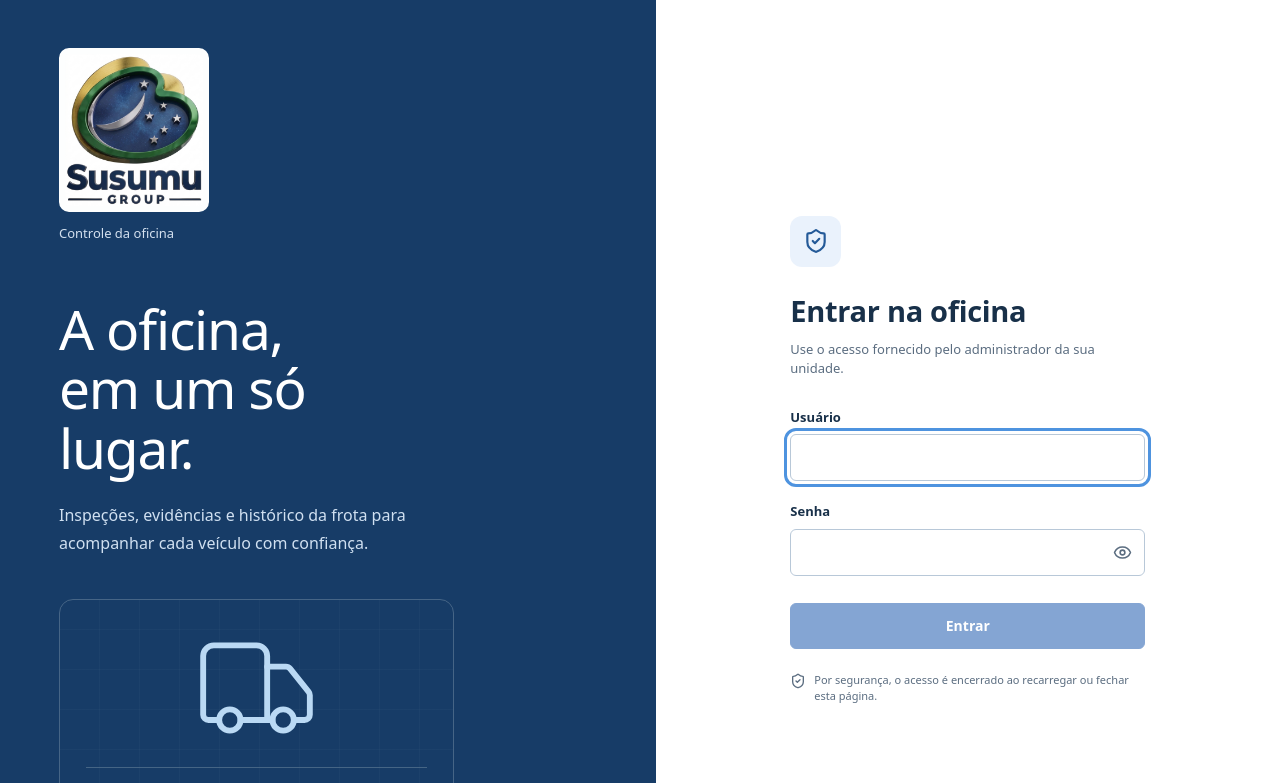
Test: vehicle type administration and assignments › blocks catalog maintenance for Supervisor without issuing its query
Type "test" into the field labelled "Usuário". click: (968, 458)
box: [790,434,1145,481]
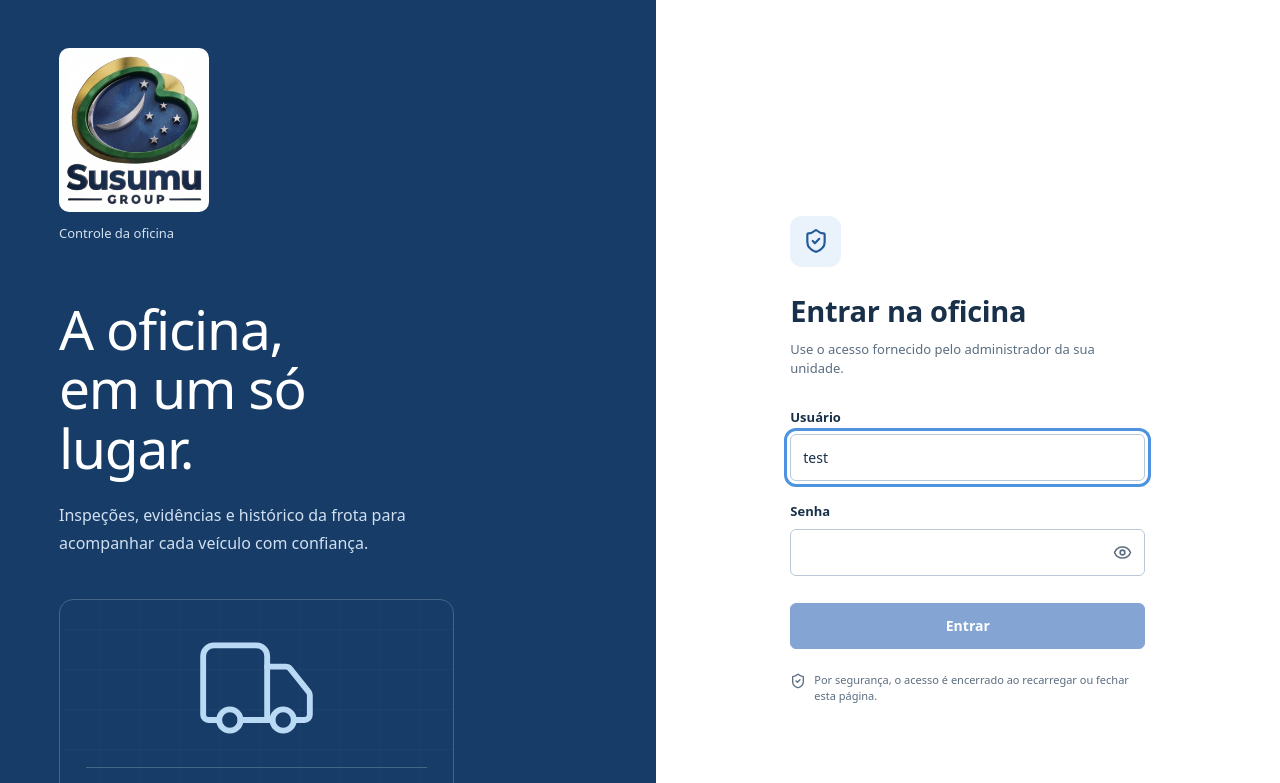
Type "test-password" into the password field labelled "Senha". click: (968, 552)
box: [790,529,1145,576]
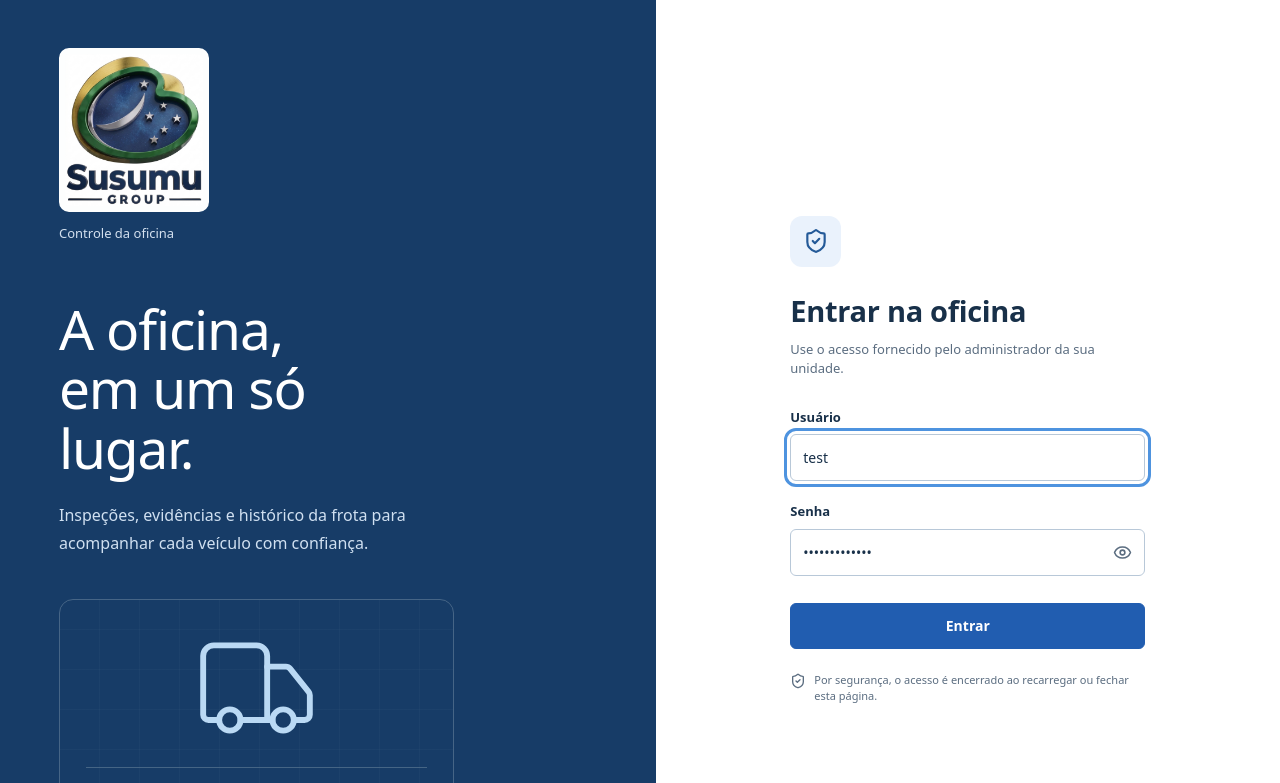
Click the button "Entrar". click: (968, 626)
box: [790,603,1145,649]
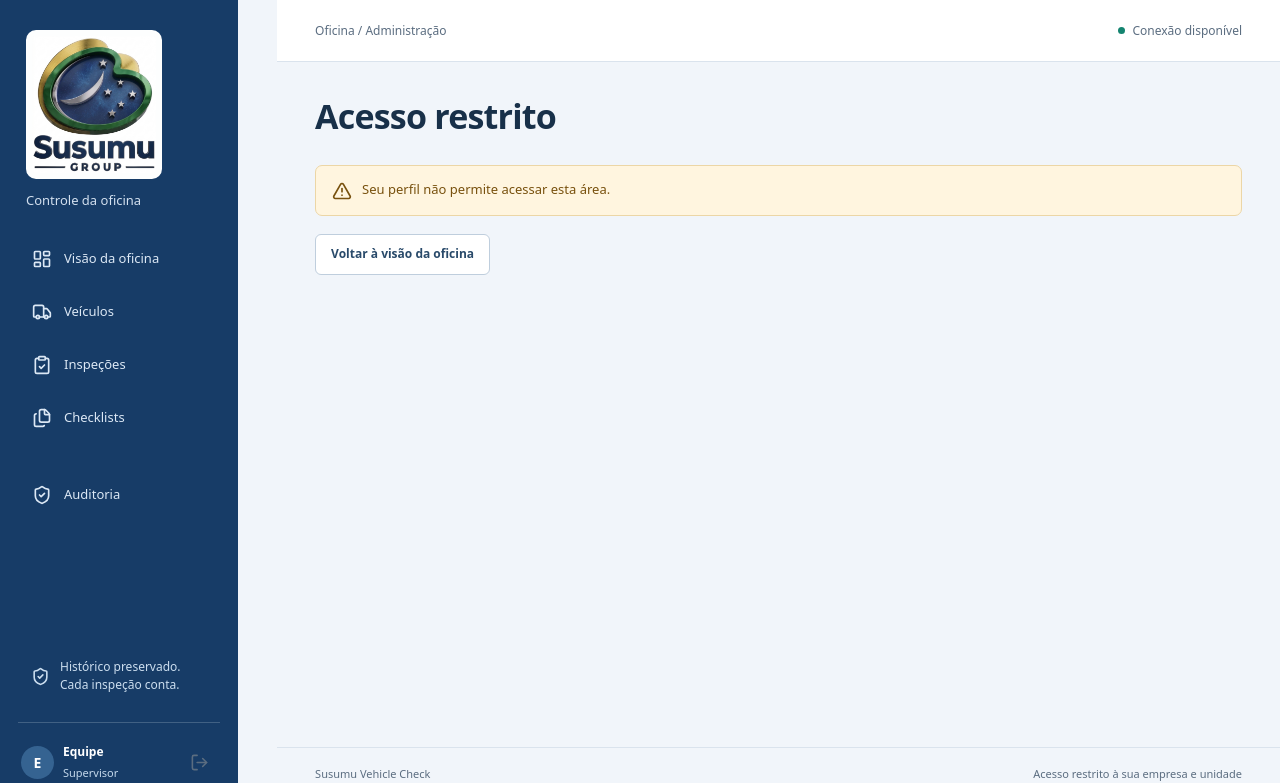
Expected: the heading "Acesso restrito" is shown, [315,97,556,136]
